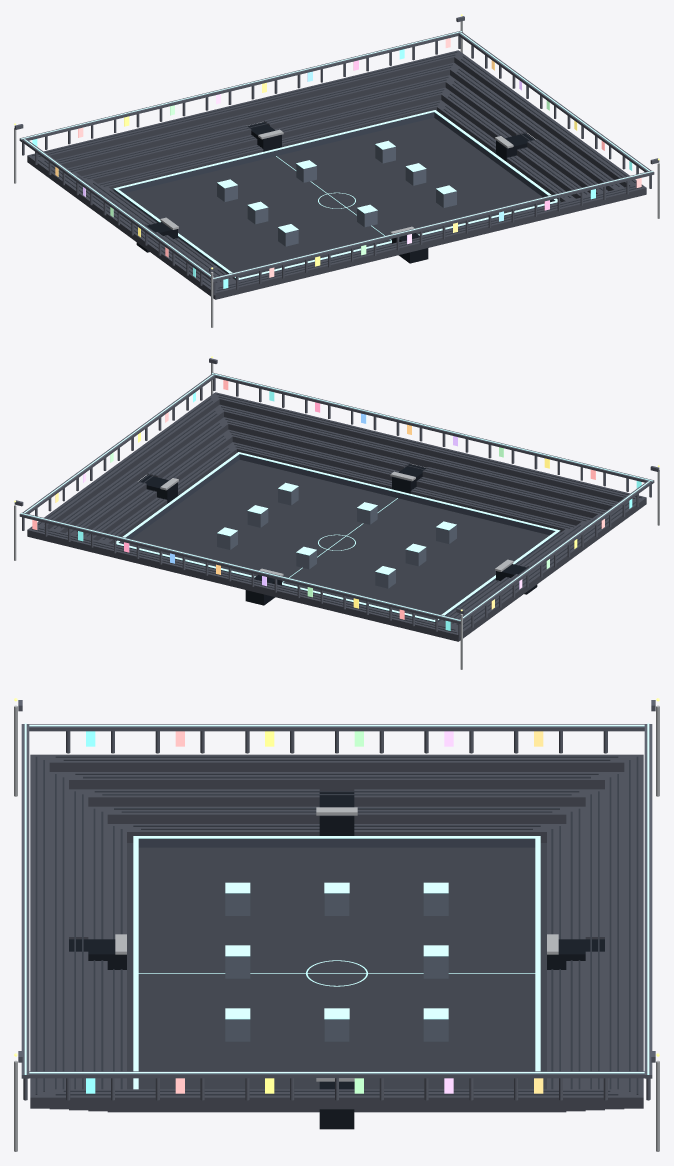
The model's file is arena_pillars.glb.
The picture shows the model from 3 angles, top to bottom: view 1: azimuth 30°, elevation 25°; view 2: azimuth 150°, elevation 25°; view 3: azimuth 270°, elevation 25°; orthographic projection. The views are drawn at different scales.
Visible parts, largest first — view 1: Stands, Floor, Seats, Lintel, Kerbs, Colonnade, Walls, KerbGlow, Gates, Banners, WallTrim, Floodlights; view 2: Stands, Floor, Seats, Lintel, Kerbs, Colonnade, Walls, KerbGlow, Gates, Banners, WallTrim, Floodlights; view 3: Stands, Floor, Seats, Lintel, Gates, Walls, KerbGlow, Kerbs, Colonnade, WallTrim, Banners, Floodlights.
Boxes of the visible parts, x1,y1,x2,y2 form: Stands: (27, 50, 646, 299); Floor: (124, 118, 544, 277); Seats: (32, 52, 641, 290); Lintel: (19, 30, 654, 282); Kerbs: (113, 112, 560, 280); Colonnade: (22, 36, 651, 295); Walls: (217, 144, 456, 246); KerbGlow: (113, 110, 557, 279); Gates: (136, 122, 535, 263); Banners: (32, 38, 641, 288); WallTrim: (217, 140, 456, 232); Floodlights: (14, 16, 659, 327); Stands: (27, 392, 646, 641); Floor: (129, 460, 549, 619); Seats: (32, 394, 641, 632); Lintel: (19, 372, 654, 624); Kerbs: (113, 454, 560, 622); Colonnade: (22, 378, 651, 637); Walls: (217, 486, 456, 588); KerbGlow: (116, 452, 560, 621); Gates: (138, 464, 537, 605); Banners: (32, 380, 641, 630); WallTrim: (217, 482, 456, 574); Floodlights: (14, 358, 659, 669); Stands: (30, 754, 643, 1112); Floor: (127, 843, 546, 1089); Seats: (35, 756, 638, 1095); Lintel: (21, 723, 652, 1078); Gates: (69, 792, 604, 1129); Walls: (225, 893, 448, 1041); KerbGlow: (133, 836, 540, 1089); Kerbs: (138, 838, 535, 847); Colonnade: (23, 731, 650, 1100); WallTrim: (225, 882, 448, 1019); Banners: (86, 731, 543, 1093); Floodlights: (14, 700, 659, 1151).
Size of the model in its own units: 218 by 28.35 by 167.
